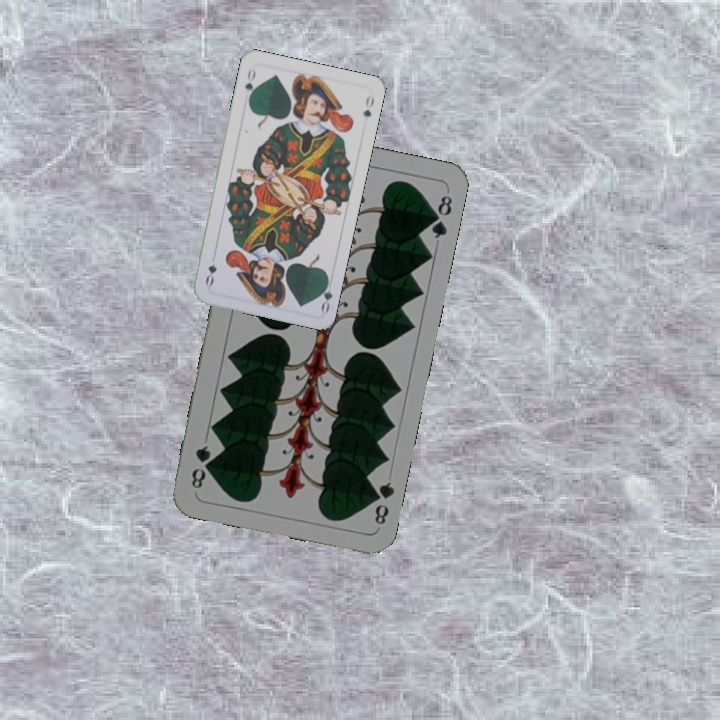G8: (366, 477, 397, 528)
GO: (315, 274, 335, 315), (240, 65, 258, 105)
